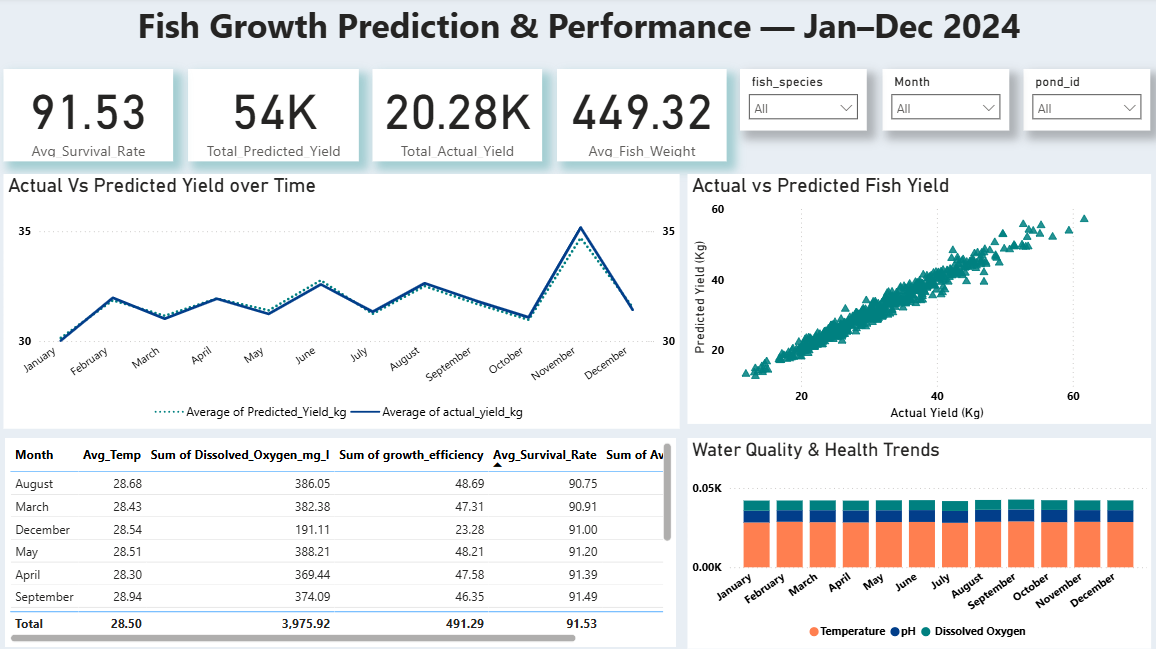

What the dashboard file says about the page in this screenshot:
{"tool":"powerbi","page":{"name":"Page 1","canvas":[1280,720],"ordinal":0},"visuals":[{"type":"textbox","box":[68,0,1145.2,71.8],"z":0},{"type":"card","fields":{"Values":["fish_growth_modified _dataset.Total_Predicted_Yield"]},"box":[208.5,79.4,189,102],"z":1000},{"type":"card","fields":{"Values":["fish_growth_modified _dataset.Total_Actual_Yield"]},"box":[413.2,79.4,187.1,102],"z":2000},{"type":"card","fields":{"Values":["fish_growth_modified _dataset.Avg_Fish_Weight"]},"box":[616.1,79.4,187.1,102],"z":3000},{"type":"card","fields":{"Values":["fish_growth_modified _dataset.Avg_Survival_Rate"]},"box":[5.7,79.4,187.1,102],"z":4000},{"type":"slicer","fields":{"Values":["fish_growth_modified _dataset.pond_id"]},"box":[1132,79.4,139.8,68],"z":5000},{"type":"slicer","fields":{"Values":["fish_growth_modified _dataset.date.Variation.Date Hierarchy.Month"]},"box":[975.1,79.4,139.8,68],"z":6000},{"type":"slicer","fields":{"Values":["fish_growth_modified _dataset.fish_species"]},"box":[818.3,79.4,139.8,68],"z":7000},{"type":"scatterChart","title":"Actual vs Predicted  Fish Yield","fields":{"Y":["Sum(fish_growth_modified _dataset.Predicted_Yield_kg)"],"Category":["fish_growth_modified _dataset.actual_yield_kg","fish_growth_modified _dataset.Predicted_Yield_kg"],"X":["Sum(fish_growth_modified _dataset.actual_yield_kg)"]},"box":[759.7,194.6,512.1,275.9],"z":8000},{"type":"lineChart","title":"Actual Vs Predicted Yield over  Time","fields":{"Category":["fish_growth_modified _dataset.date.Variation.Date Hierarchy.Month"],"Y":["Avg(fish_growth_modified _dataset.Predicted_Yield_kg)"],"Y2":["Avg(fish_growth_modified _dataset.actual_yield_kg)"]},"box":[5.7,194.6,746.5,281.6],"z":9000},{"type":"tableEx","fields":{"Values":["fish_growth_modified _dataset.date.Variation.Date Hierarchy.Month","fish_growth_modified _dataset.Avg_Temp","Sum(fish_growth_modified _dataset.Dissolved_Oxygen_mg_l)","Sum(fish_growth_modified _dataset.growth_efficiency)","fish_growth_modified _dataset.Avg_Survival_Rate","Sum(fish_growth_modified _dataset.Avg_Fish_Weight_g)"]},"box":[7.1,486.9,740.8,230.6],"z":10000},{"type":"columnChart","title":"Water Quality & Health Trends","fields":{"Y":["Avg(fish_growth_modified _dataset.Temperature_C)","Avg(fish_growth_modified _dataset.ph)","Avg(fish_growth_modified _dataset.Dissolved_Oxygen_mg_l)"],"Category":["fish_growth_modified _dataset.date.Variation.Date Hierarchy.Month"]},"box":[759.7,487.6,512.1,232.4],"z":11000}]}

Visuals, with their boxes in screenshot pixels (x1, y1, x2, y2), scaled from the page's 1280x720 canvas onto the 1156x649 screenshot:
textbox: <bbox>61, 0, 1096, 65</bbox>
card - fish_growth_modified _dataset.Total_Predicted_Yield: <bbox>188, 72, 359, 164</bbox>
card - fish_growth_modified _dataset.Total_Actual_Yield: <bbox>373, 72, 542, 164</bbox>
card - fish_growth_modified _dataset.Avg_Fish_Weight: <bbox>556, 72, 725, 164</bbox>
card - fish_growth_modified _dataset.Avg_Survival_Rate: <bbox>5, 72, 174, 164</bbox>
slicer - fish_growth_modified _dataset.pond_id: <bbox>1022, 72, 1149, 133</bbox>
slicer - fish_growth_modified _dataset.date.Variation.Date Hierarchy.Month: <bbox>881, 72, 1007, 133</bbox>
slicer - fish_growth_modified _dataset.fish_species: <bbox>739, 72, 865, 133</bbox>
"Actual vs Predicted  Fish Yield" scatterChart: <bbox>686, 175, 1149, 424</bbox>
"Actual Vs Predicted Yield over  Time" lineChart: <bbox>5, 175, 679, 429</bbox>
tableEx - fish_growth_modified _dataset.date.Variation.Date Hierarchy.Month x fish_growth_modified _dataset.Avg_Temp: <bbox>6, 439, 675, 647</bbox>
"Water Quality & Health Trends" columnChart: <bbox>686, 440, 1149, 648</bbox>
